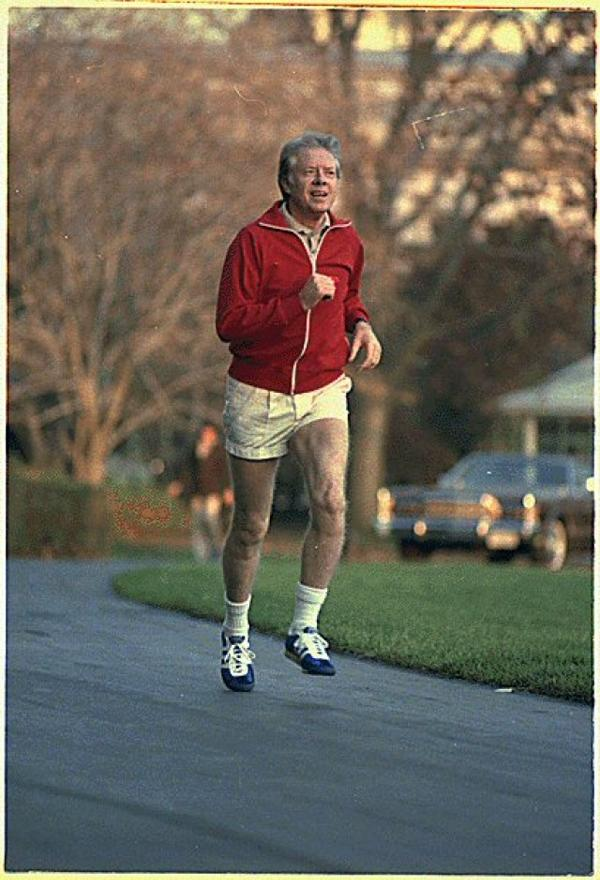person: (217, 130, 384, 694)
